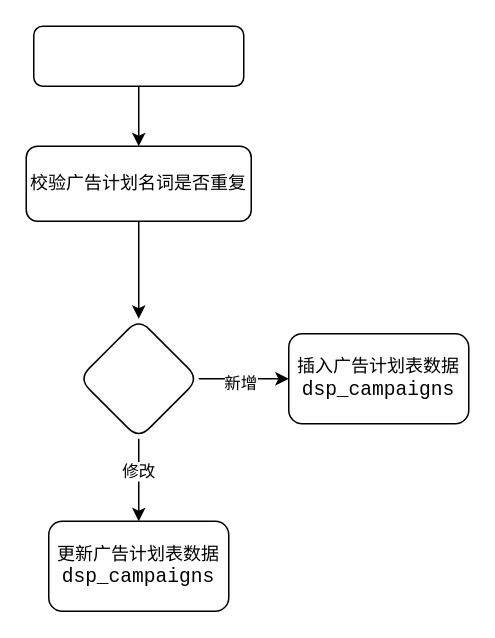
Some shapes in this 495 by 638 pixel diagram are drawn without their labels. Here are the shapes that lost their labels. From the top down, the box of each, then its label:
(32, 25, 244, 86): 前端请求创建广告计划
(77, 317, 199, 439): 是否新增/修改
